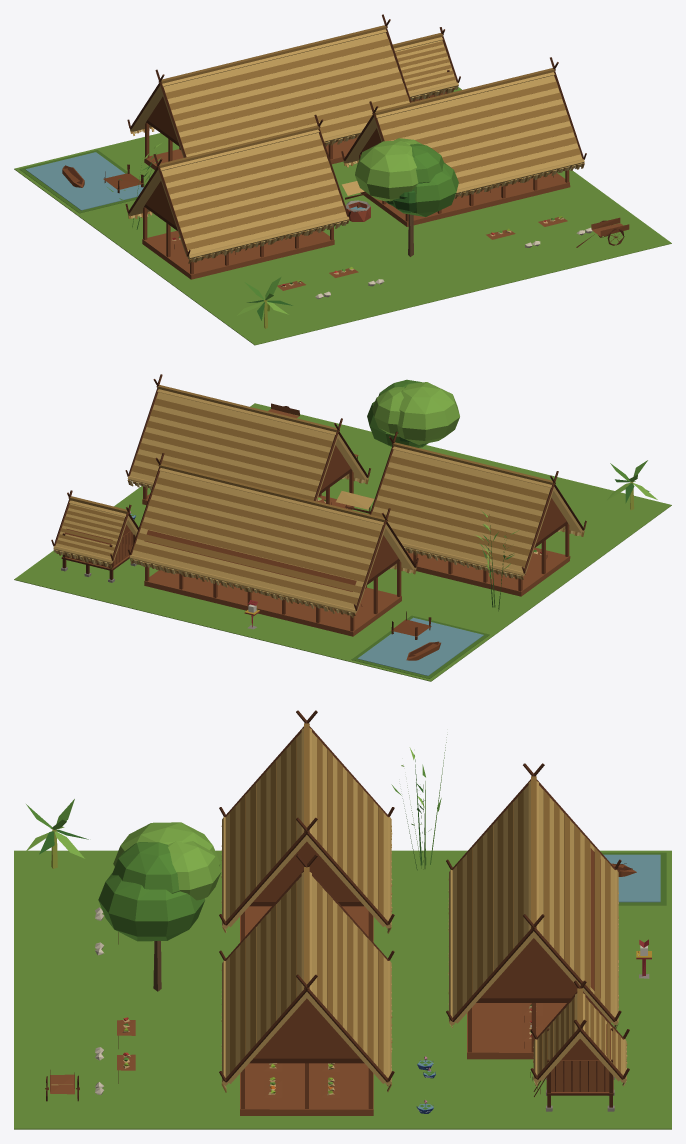
Rendered from shop_5.glb.
3 renders of one model, top to bottom at view 1: azimuth 30°, elevation 25°; view 2: azimuth 150°, elevation 25°; view 3: azimuth 270°, elevation 25°, orthographic. The views are drawn at different scales.
Visible parts, largest first — view 1: body; view 2: body; view 3: body.
Boxes of the visible parts, x1=… form: body: x1=14, y1=14, x2=671, y2=345; body: x1=14, y1=374, x2=671, y2=681; body: x1=14, y1=710, x2=671, y2=1129.
Bounding box in the file's own units: 32.1 × 8.51 × 31.9.
